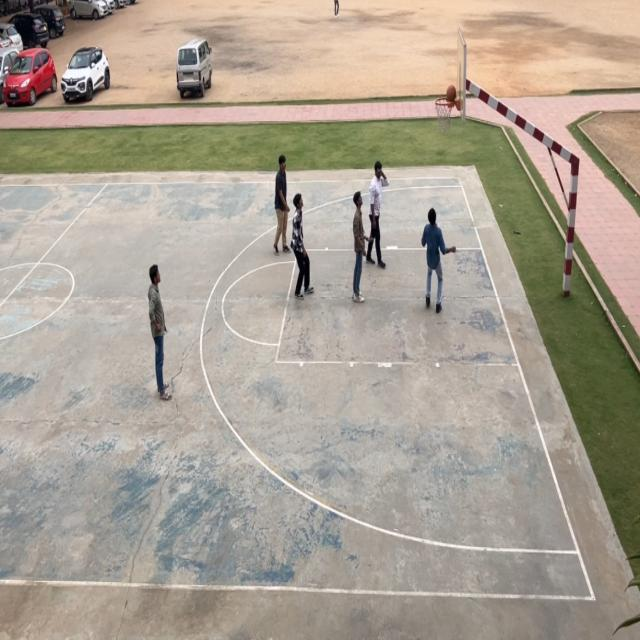basketball: (447, 84, 458, 105)
hoop: (434, 99, 455, 132)
